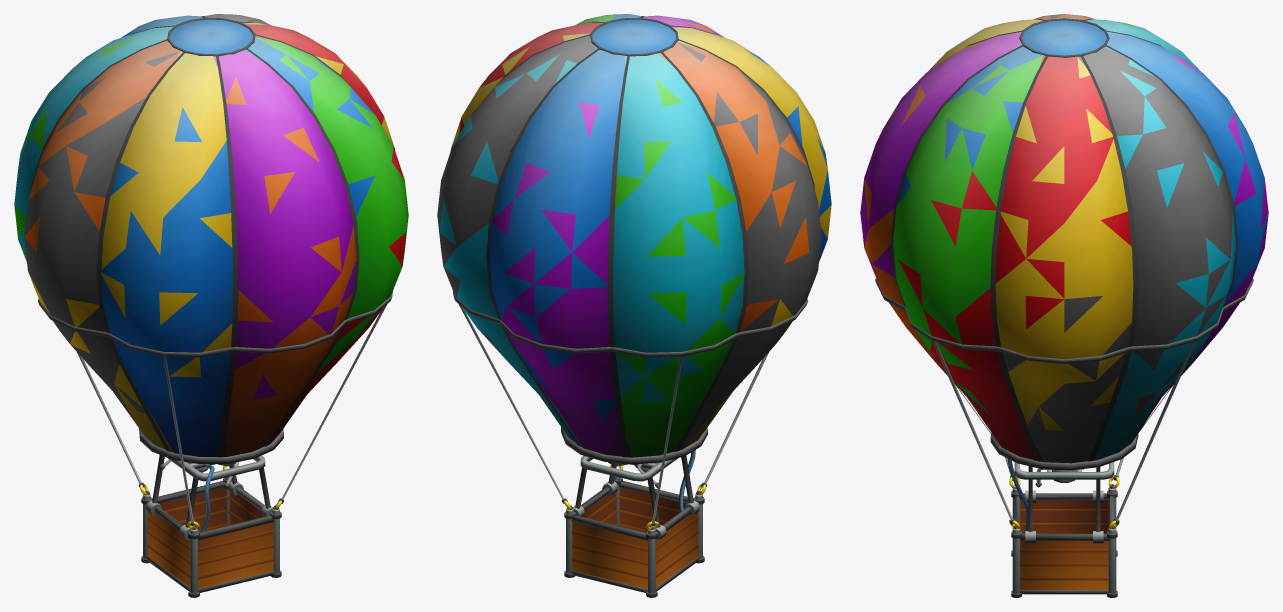
File: balloon_1.fbx
3 views of the same model, side by side, from view 1: azimuth 30°, elevation 25°; view 2: azimuth 150°, elevation 25°; view 3: azimuth 270°, elevation 25° (orthographic).
Visible parts, largest first — view 1: Balloon_1; view 2: Balloon_1; view 3: Balloon_1.
Part boxes in pixels (x1=…): Balloon_1: x1=14, y1=14, x2=408, y2=597; Balloon_1: x1=437, y1=14, x2=831, y2=597; Balloon_1: x1=860, y1=14, x2=1268, y2=597.
Size of the model in its own units: 817 by 1194 by 817.
